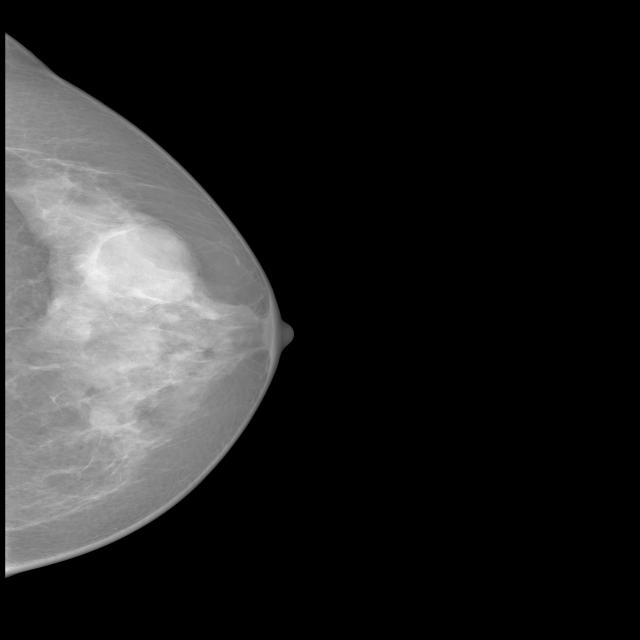Mass_1: (52, 205, 222, 329)
Mass_2: (71, 391, 137, 450)
